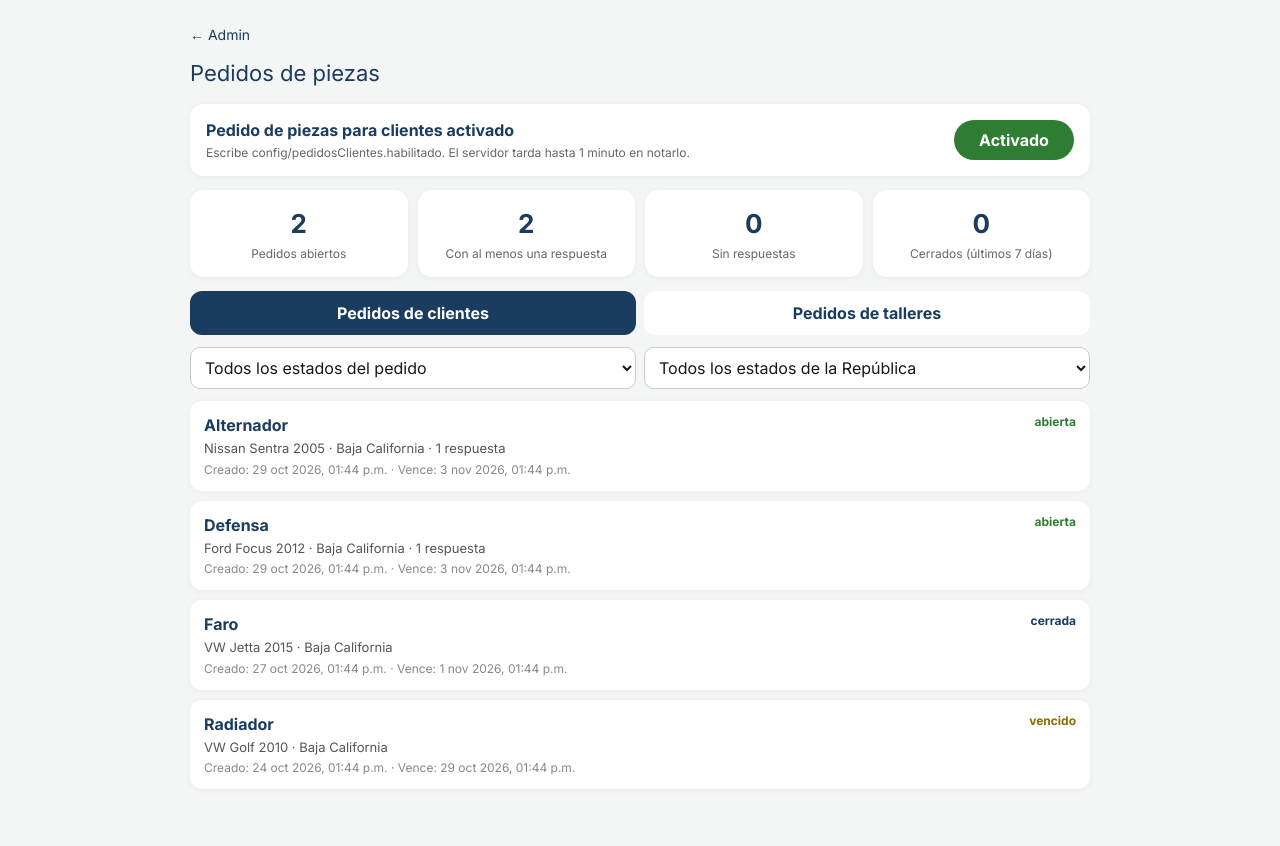
Scenario: Sugerir yonke: pedidos de clientes › respuesta sugerida: marca "Sugerida por admin" y "Precio a tratar" (nunca un precio vacío)
This screenshot has width=1280, height=846.
Click the text "Alternador" at (246, 425), box x1=204 y1=413 x2=288 y2=437
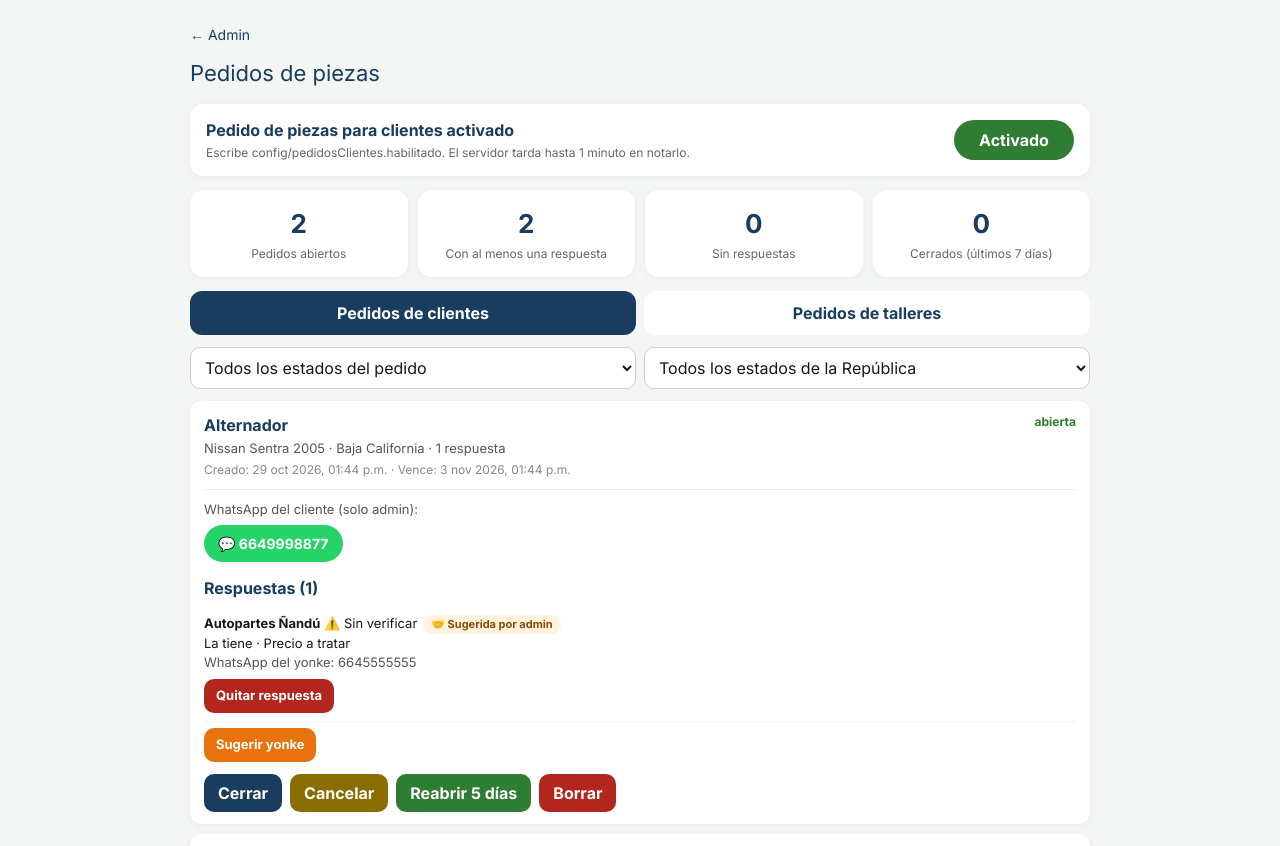
Expected: the text "🤝 Sugerida por admin" is shown, x1=423 y1=615 x2=561 y2=634
Expected: the text "La tiene · Precio a tratar" is shown, x1=204 y1=634 x2=350 y2=650
